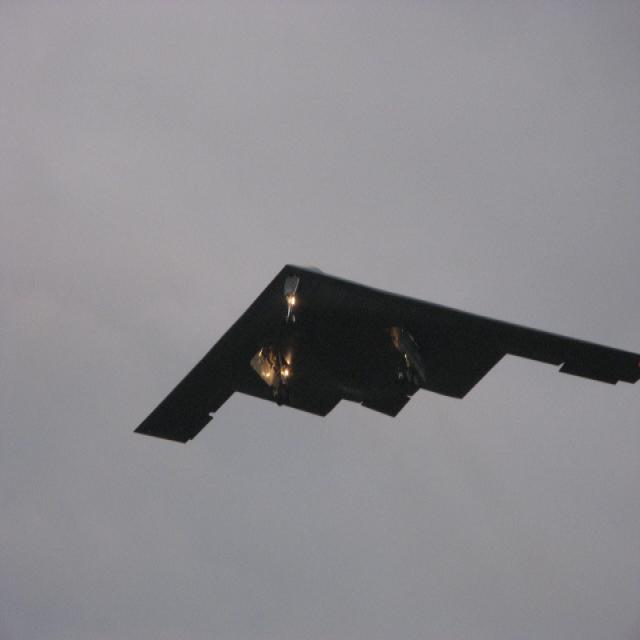MIL_Plane: (132, 261, 639, 444)
